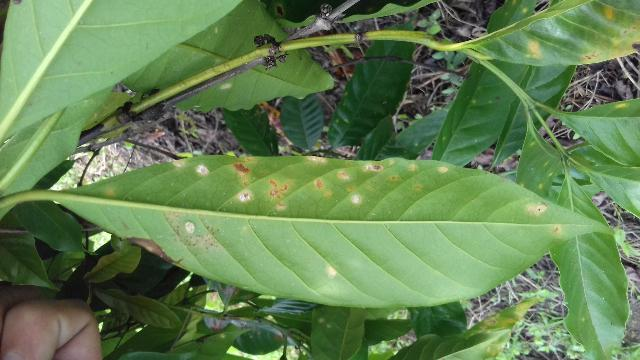rust_level_2: (52, 157, 620, 308)
